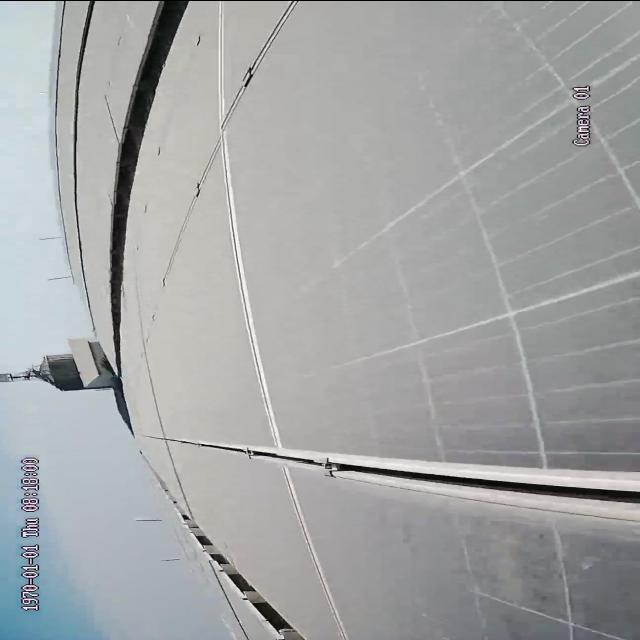interior panel: (151, 2, 632, 637)
outher panel: (108, 1, 193, 336), (170, 497, 308, 639)
